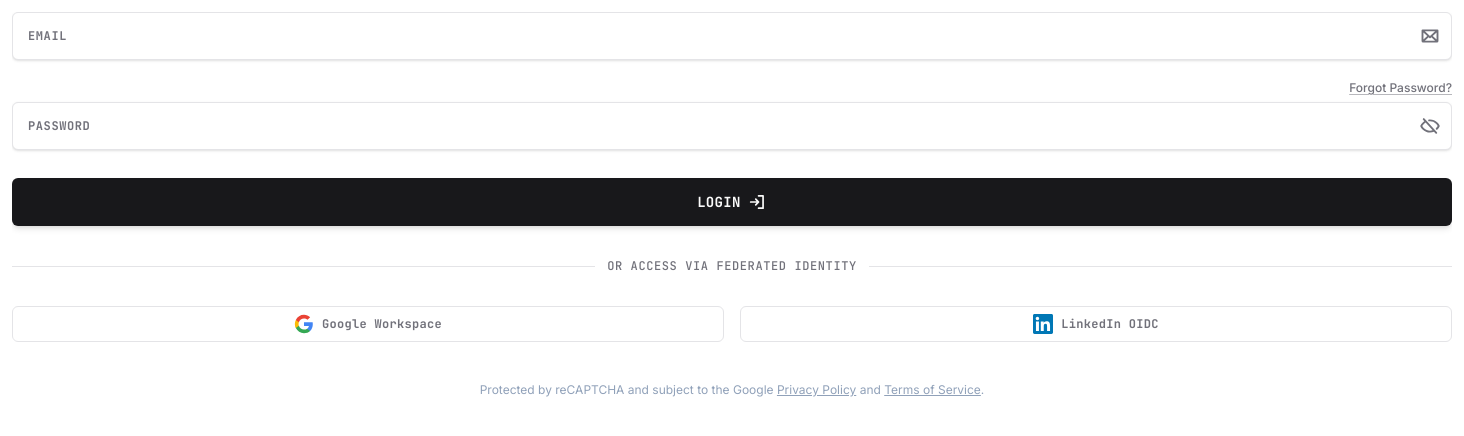
Scenario: LoginForm › validation › shows uppercase error when password lacks uppercase
This screenshot has width=1464, height=436.
Type "weakpass1!" into the password field labelled "Password" at (732, 126), box [12, 102, 1452, 150]
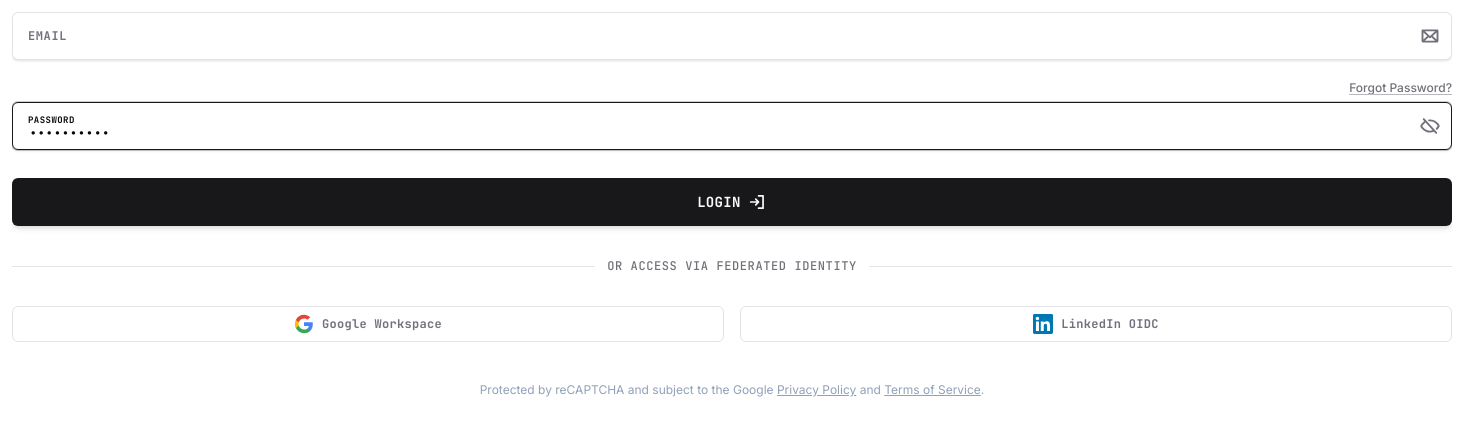
Press Tab
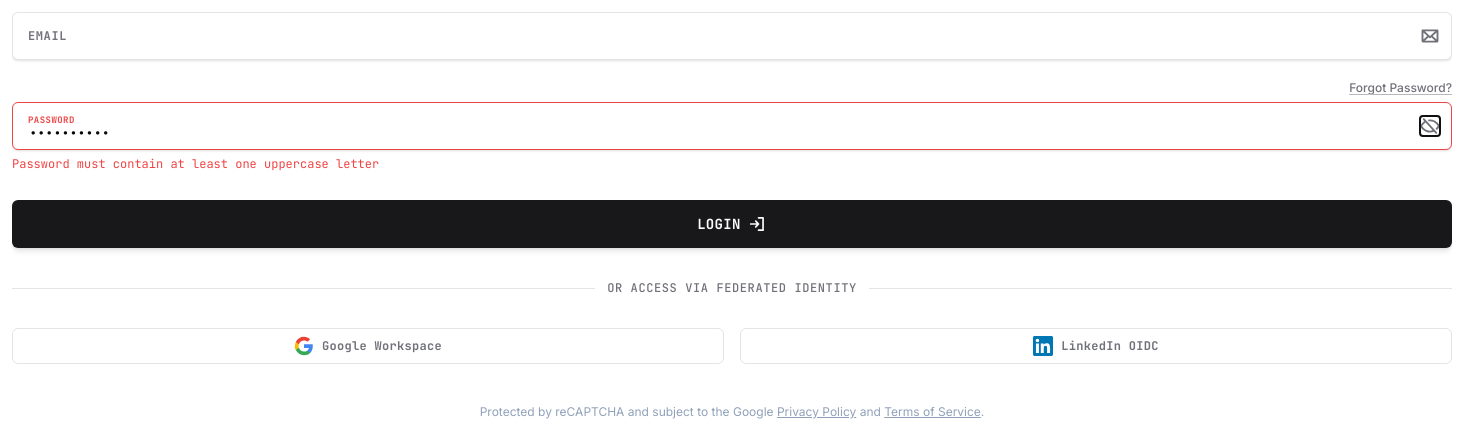
Expected: the text "Password must contain at least one uppercase letter" is shown, [12, 156, 379, 172]
